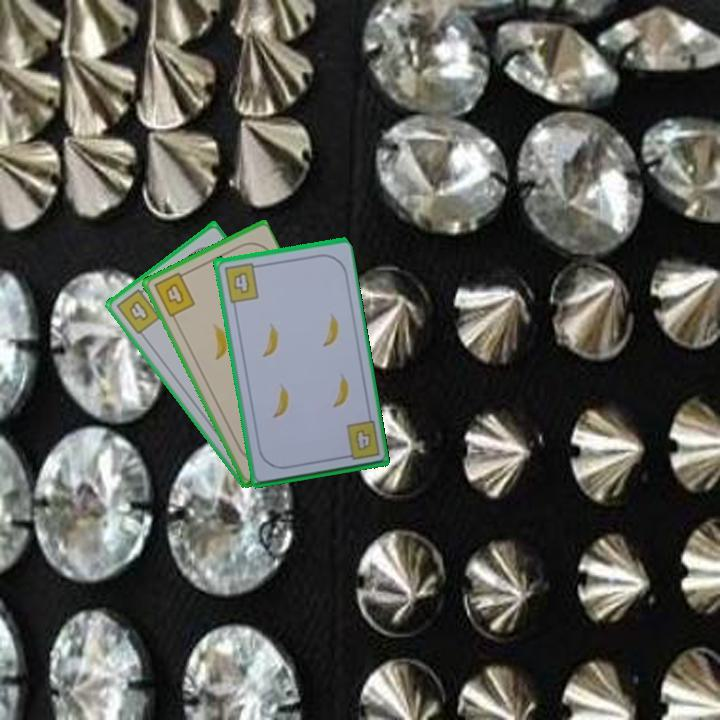4b: (112, 282, 163, 337), (150, 268, 198, 320), (220, 259, 263, 305), (351, 426, 374, 451)
